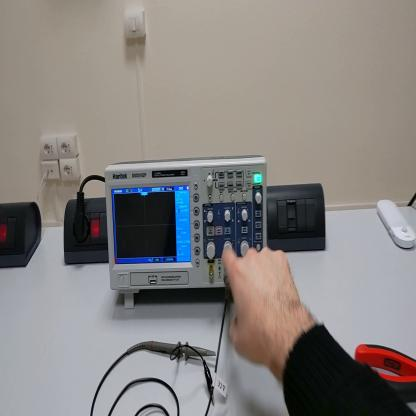hand: (222, 242, 306, 374)
oscilloscope: (106, 153, 269, 312)
oscilloscope probe tip: (148, 339, 218, 361)
pliers: (357, 342, 416, 403)
socket: (62, 200, 110, 266), (1, 203, 45, 270)
